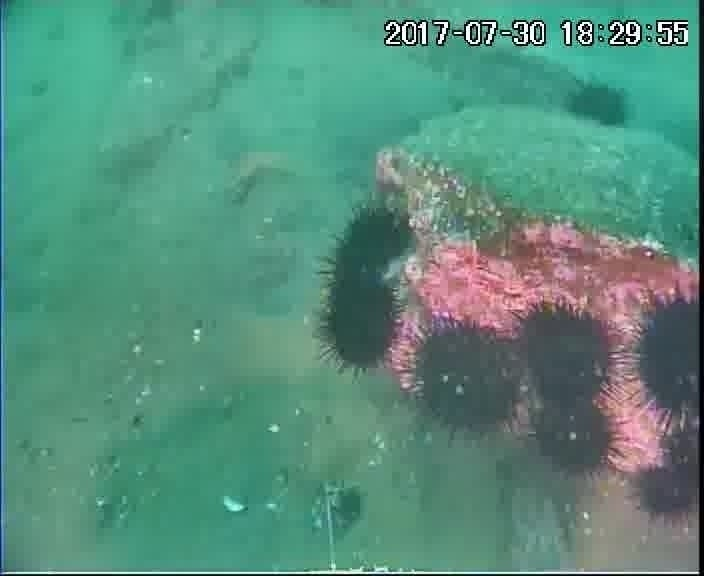echinus: (401, 317, 523, 437), (512, 299, 621, 409), (626, 288, 703, 435), (316, 272, 406, 374), (325, 203, 418, 291), (628, 425, 703, 528), (531, 398, 623, 478), (562, 78, 634, 134)
